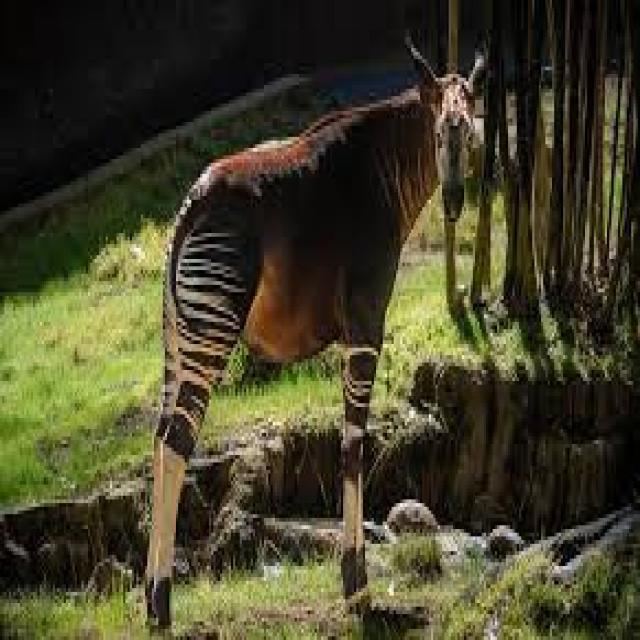Okapi: (136, 36, 491, 629)
